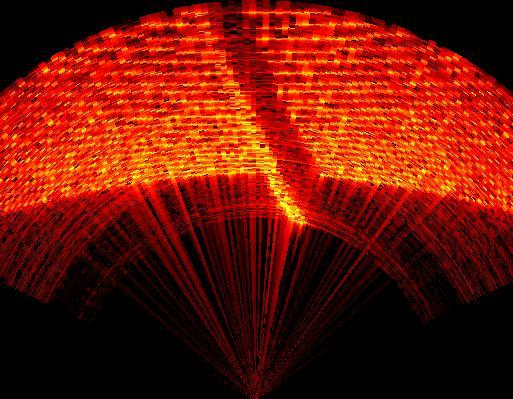pipe: (206, 2, 322, 214)
